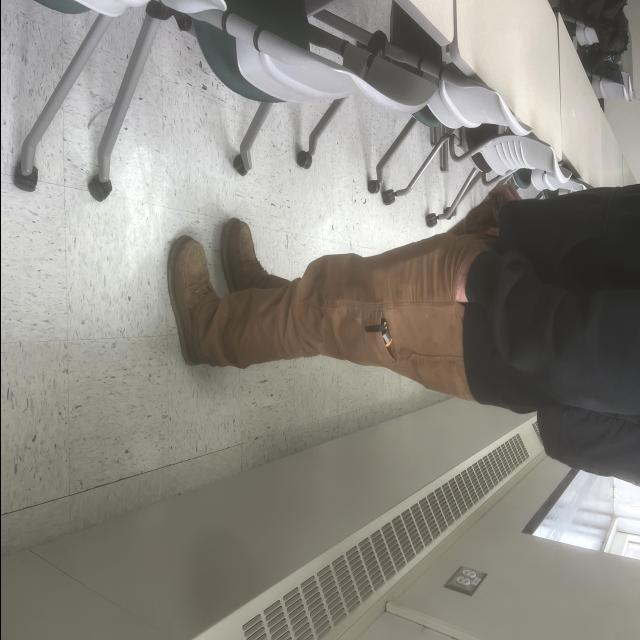Boots: (163, 212, 262, 370)
